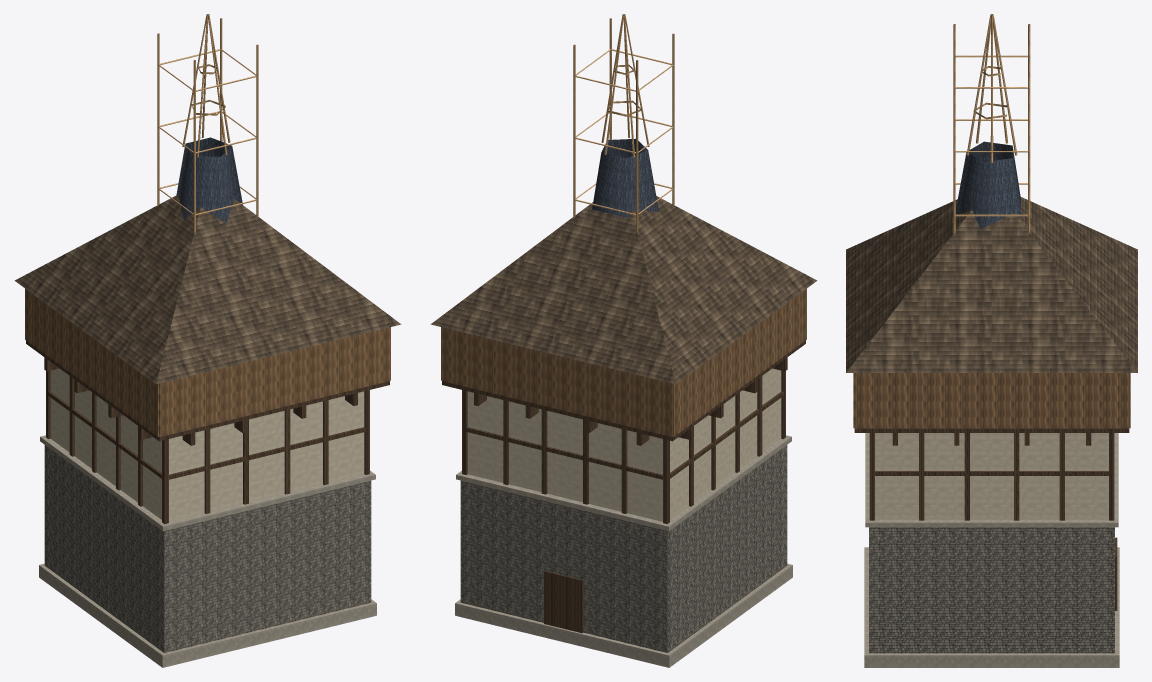
The model's file is Keep_Timber_Spire_Site_1_LOD1.gltf.
The picture shows the model from 3 angles, left to right: view 1: azimuth 30°, elevation 25°; view 2: azimuth 150°, elevation 25°; view 3: azimuth 270°, elevation 25°; orthographic projection. The views are drawn at different scales.
Parts seen in each view (by area): view 1: Keep_Timber_Spire_Site_1_LOD1; view 2: Keep_Timber_Spire_Site_1_LOD1; view 3: Keep_Timber_Spire_Site_1_LOD1.
Part boxes in pixels (x1,y1,x2,y2): Keep_Timber_Spire_Site_1_LOD1: (14,14,401,667); Keep_Timber_Spire_Site_1_LOD1: (430,14,817,667); Keep_Timber_Spire_Site_1_LOD1: (846,14,1137,667).
Size of the model in its own units: 16.6 by 37.61 by 16.6.
Materials: 8 (8 with a texture image).
